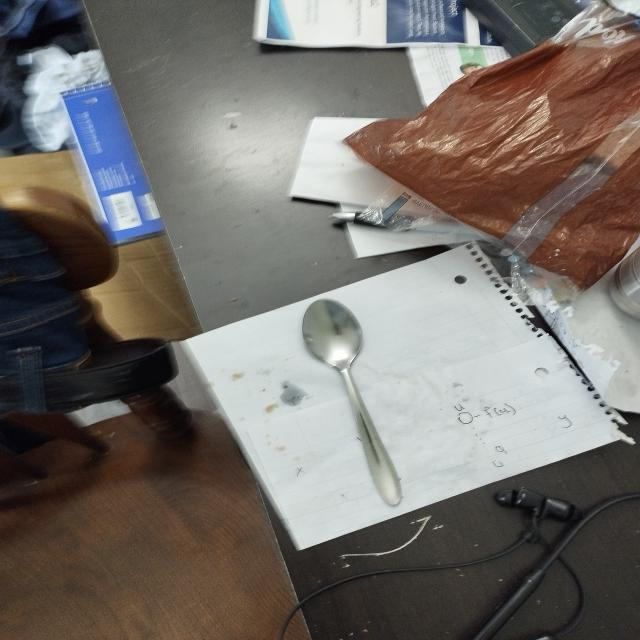Spoon: (292, 289, 431, 512)
